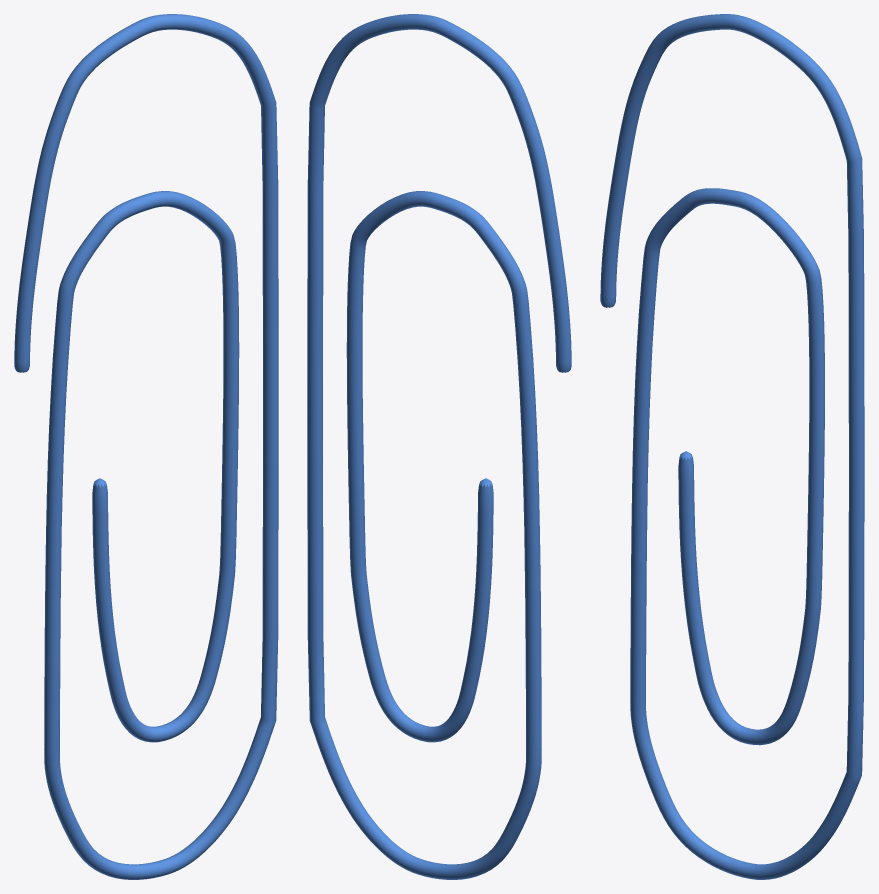
Rendered from uploads_files_2252369_Paper+clip.obj.
3 views of the same model, side by side, from view 1: azimuth 30°, elevation 25°; view 2: azimuth 150°, elevation 25°; view 3: azimuth 330°, elevation 25° (orthographic).
Visible parts, largest first — view 1: Paper_clip; view 2: Paper_clip; view 3: Paper_clip.
Boxes of the visible parts, x1,y1,x2,y2 form: Paper_clip: (14, 14, 278, 879); Paper_clip: (307, 14, 571, 879); Paper_clip: (600, 14, 864, 879).
Size of the model in its own units: 0.3675 by 1.15 by 0.019.
